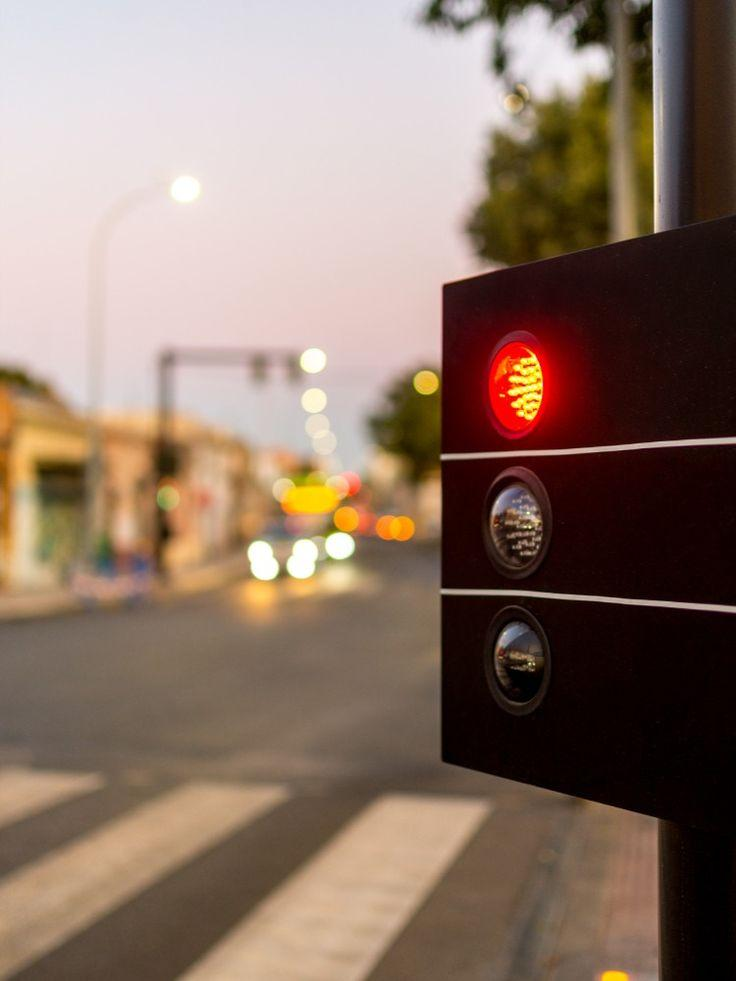red: (415, 282, 615, 802)
